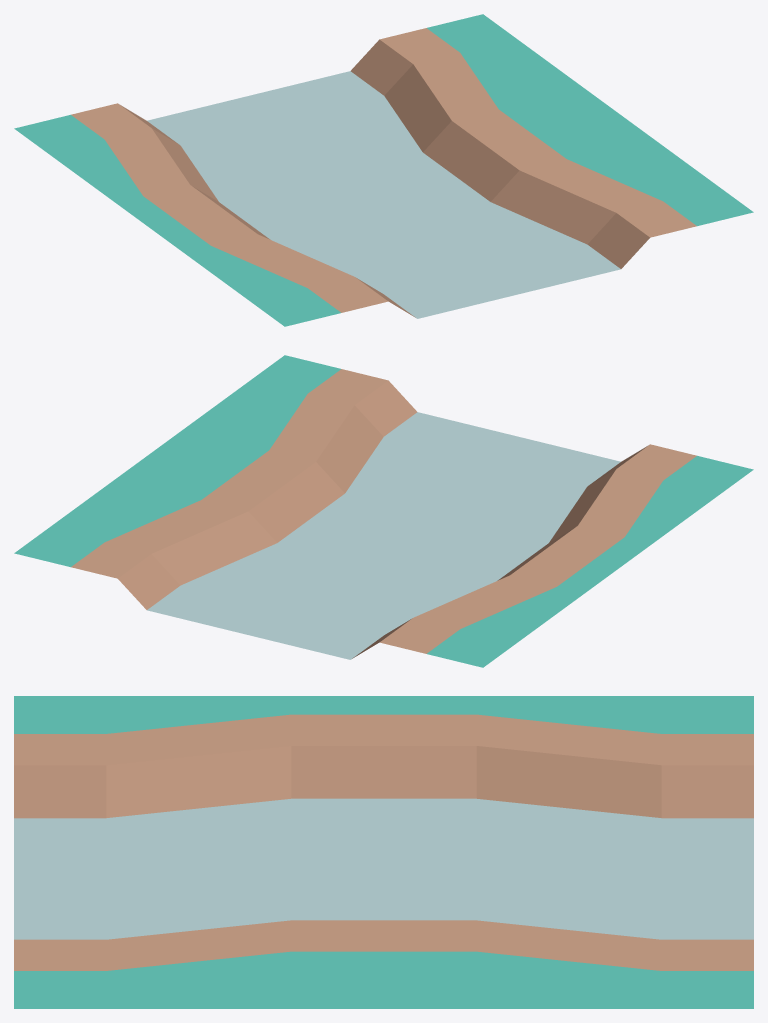
File: ground_riverStraight.glb
3 views of the same model, one above another, from view 1: azimuth 30°, elevation 25°; view 2: azimuth 150°, elevation 25°; view 3: azimuth 270°, elevation 25° (orthographic). The views are drawn at different scales.
Visible parts, largest first — view 1: ground_riverStraight; view 2: ground_riverStraight; view 3: ground_riverStraight.
Part boxes in pixels (x1,y1,x2,y2): ground_riverStraight: [14, 14, 753, 326]; ground_riverStraight: [14, 355, 753, 667]; ground_riverStraight: [14, 696, 753, 1008].
Bounding box in the file's own units: 1 × 0.05 × 1.
